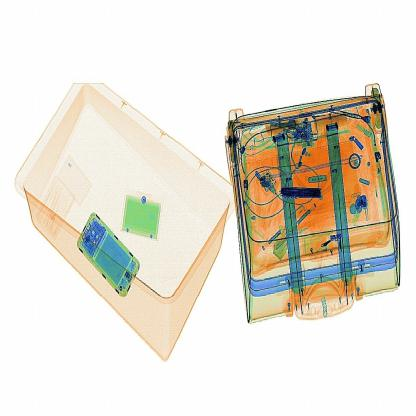scissors: (278, 181, 331, 209)
